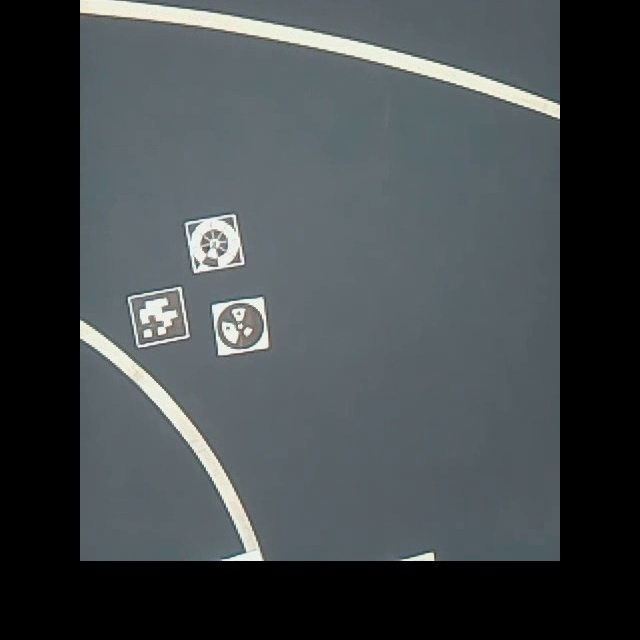landing-zone: (125, 283, 193, 349)
